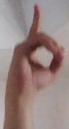D1: (1, 1, 69, 109)
